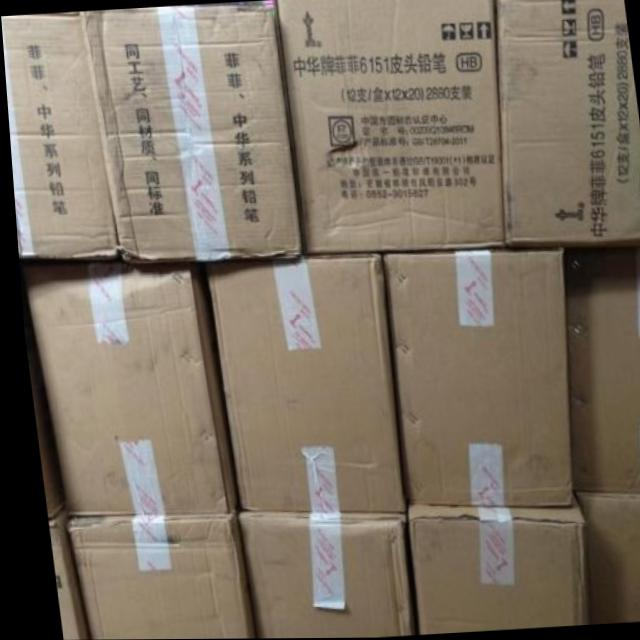box: (278, 0, 499, 259), (80, 1, 297, 262), (22, 263, 230, 518), (200, 254, 398, 512), (376, 244, 564, 508), (497, 0, 640, 246), (1, 13, 117, 259), (400, 492, 579, 634), (58, 509, 246, 640), (229, 512, 404, 639), (561, 243, 640, 494), (566, 492, 640, 623), (40, 503, 76, 640)
